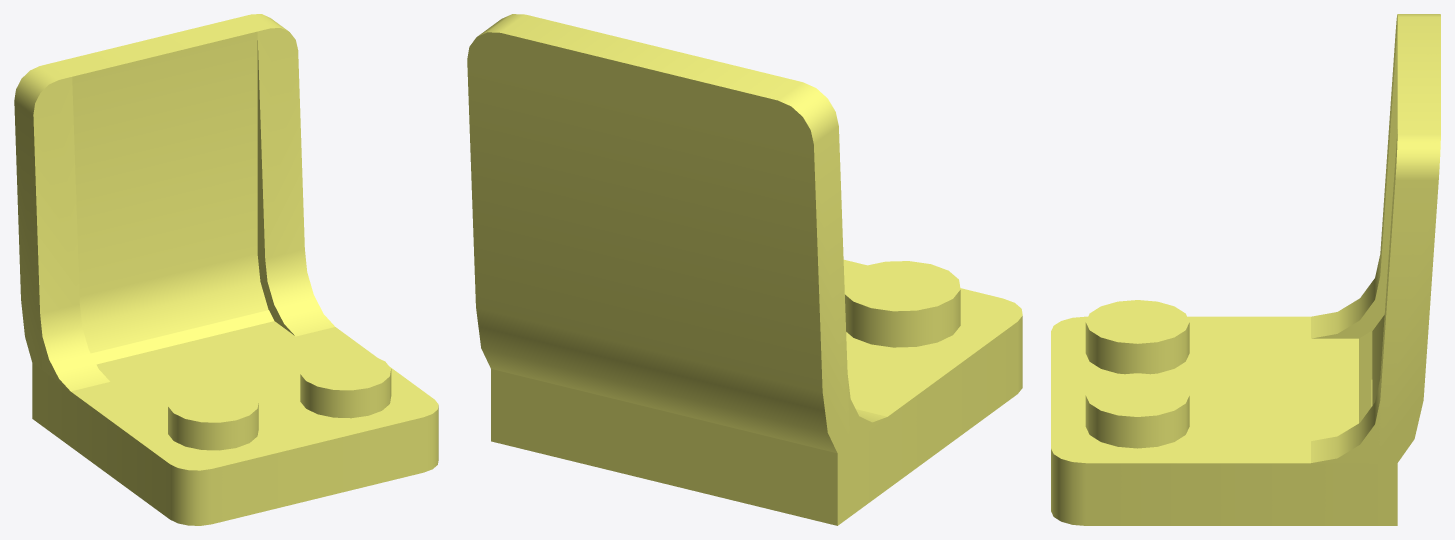
3 views of the same model, side by side, from view 1: azimuth 30°, elevation 25°; view 2: azimuth 150°, elevation 25°; view 3: azimuth 270°, elevation 25° (orthographic). The views are drawn at different scales.
Visible parts, largest first — view 1: 4079.dat; view 2: 4079.dat; view 3: 4079.dat.
Boxes of the visible parts, bbox=[...] form: 4079.dat: bbox=[14, 14, 438, 525]; 4079.dat: bbox=[467, 14, 1022, 525]; 4079.dat: bbox=[1051, 14, 1440, 525].
Bounding box in the file's own units: 0.016 × 0.0192 × 0.018.
